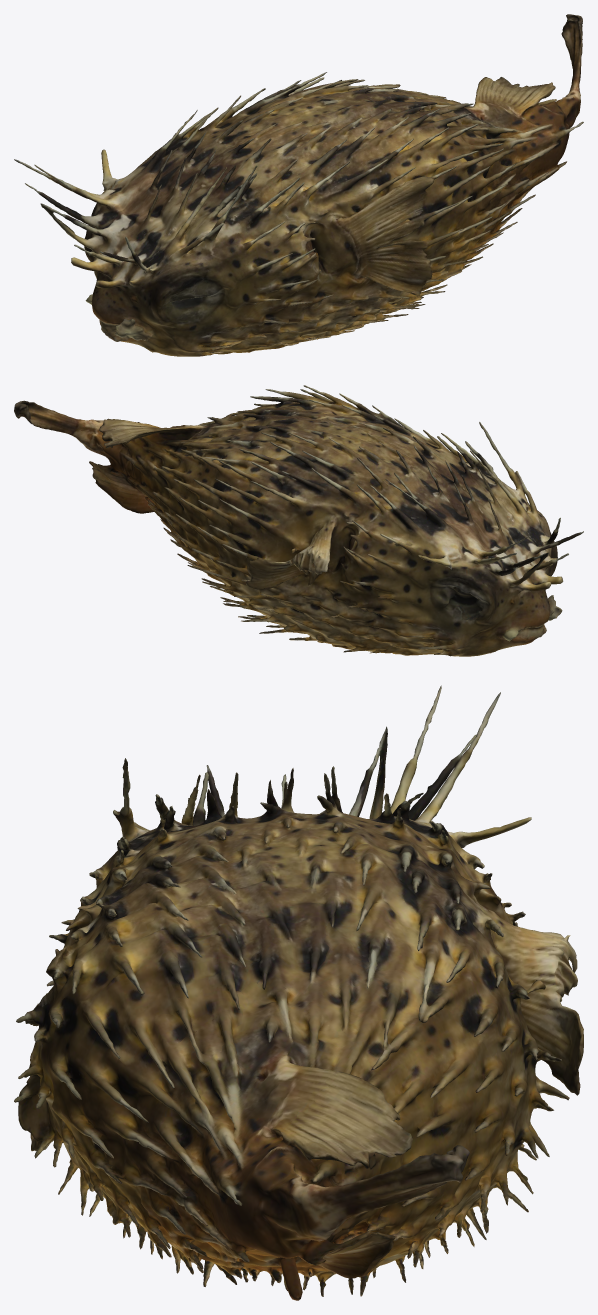
Rendered from diodon_hystrix_usnm_195928_100k_2048.glb.
3 views of the same model, one above another, from view 1: azimuth 30°, elevation 25°; view 2: azimuth 150°, elevation 25°; view 3: azimuth 270°, elevation 25° (orthographic). The views are drawn at different scales.
Size of the model in its own units: 0.1569 by 0.0549 by 0.0747.
Materials: 1 (1 with a texture image).
